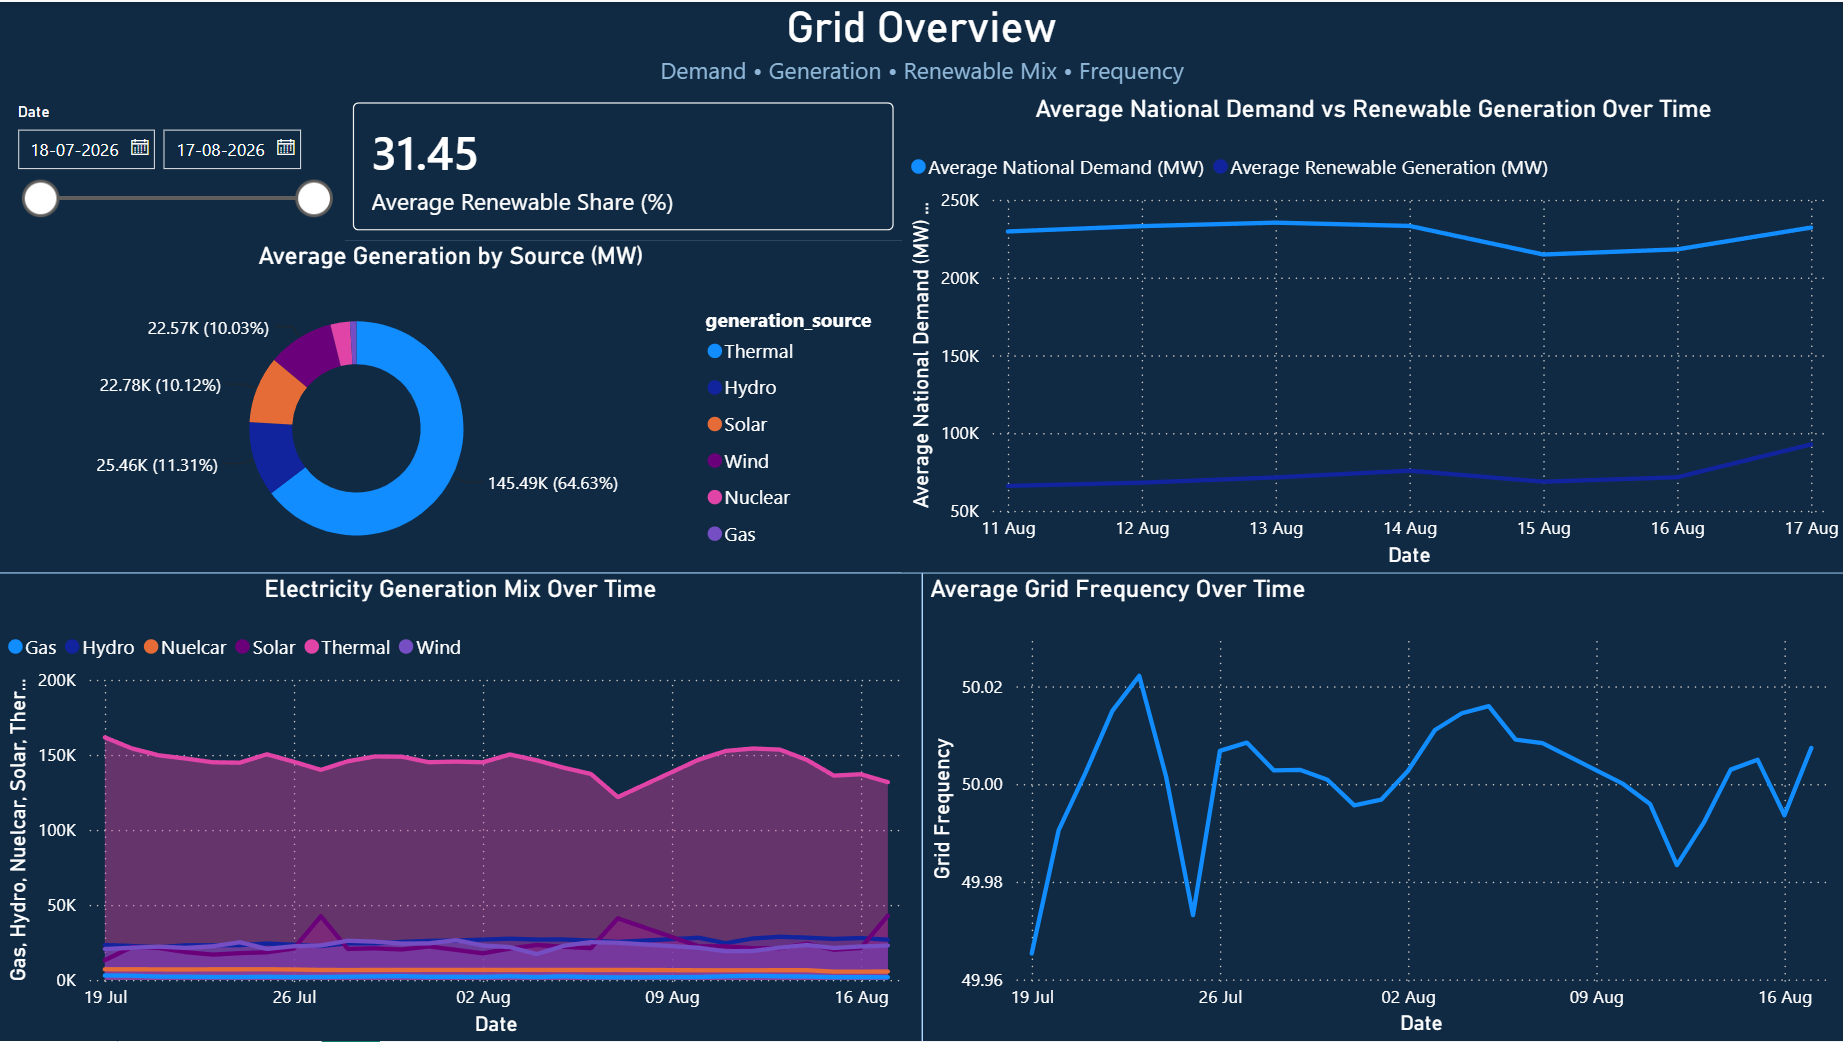

Layout of this report page (visuals, bound fields, positions):
{"tool":"powerbi","page":{"name":"Grid Overview","canvas":[1280,720],"ordinal":0},"visuals":[{"type":"slicer","fields":{"Values":["DimDate.Date"]},"box":[0,64.5,239.1,101.9],"z":0},{"type":"lineChart","title":"Average National Demand vs Renewable Generation Over Time","fields":{"Category":["DimDate.Date"],"Y":["national_grid.Average National Demand (MW)","Avg(national_grid.renewable_generation_mw)"]},"box":[625.7,63.4,653.6,332.2],"z":1000},{"type":"lineChart","title":"Average Grid Frequency Over Time","fields":{"Category":["DimDate.Date"],"Y":["Avg(national_grid.avg_frequency_hz)"]},"box":[640.3,396,639.3,324.3],"z":2000},{"type":"areaChart","title":"Electricity Generation Mix Over Time","fields":{"Y":["Avg(national_grid.gas)","Avg(national_grid.hydro)","Avg(national_grid.nuclear)","Avg(national_grid.solar)","Avg(national_grid.thermal)","Avg(national_grid.wind)"],"Category":["DimDate.Date"]},"box":[0,395.6,639.6,324.7],"z":3000},{"type":"donutChart","title":"Average Generation by Source (MW)","fields":{"Category":["Generation Mix.generation_source"],"Y":["DimDate.Generation Mix MW"]},"box":[0,165.6,625.7,230.1],"z":4000},{"type":"cardVisual","fields":{"Data":["national_grid.Average Renewable Share (%)"]},"box":[239.1,63.4,387.2,101.7],"z":5000},{"type":"textbox","title":"Grid Overview","box":[0,0,1279.3,65.6],"z":6000}]}

Visuals, with their boxes in screenshot pixels (x1, y1, x2, y2), scaled from the page's 1280x720 canvas onto the 1843x1042 screenshot:
slicer - DimDate.Date: {"left": 0, "top": 93, "right": 344, "bottom": 241}
"Average National Demand vs Renewable Generation Over Time" lineChart: {"left": 901, "top": 92, "right": 1842, "bottom": 573}
"Average Grid Frequency Over Time" lineChart: {"left": 922, "top": 573, "right": 1842, "bottom": 1041}
"Electricity Generation Mix Over Time" areaChart: {"left": 0, "top": 573, "right": 921, "bottom": 1041}
"Average Generation by Source (MW)" donutChart: {"left": 0, "top": 240, "right": 901, "bottom": 573}
cardVisual - national_grid.Average Renewable Share (%): {"left": 344, "top": 92, "right": 902, "bottom": 239}
"Grid Overview" textbox: {"left": 0, "top": 0, "right": 1842, "bottom": 95}
